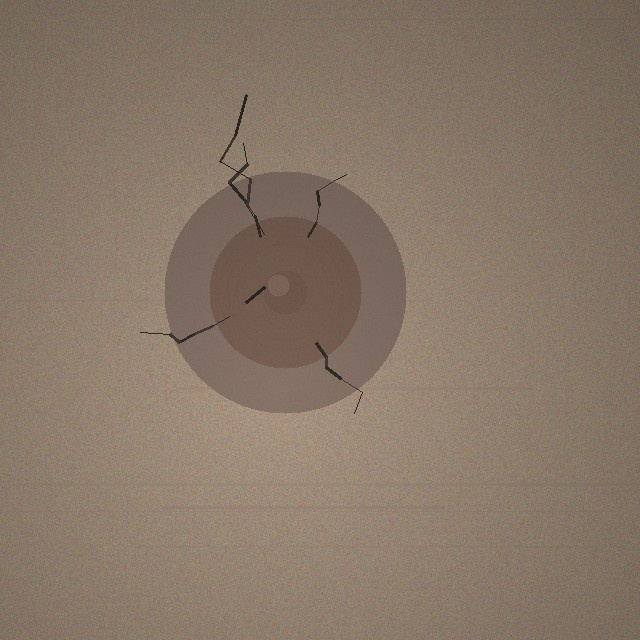crack: (164, 171, 406, 413)
